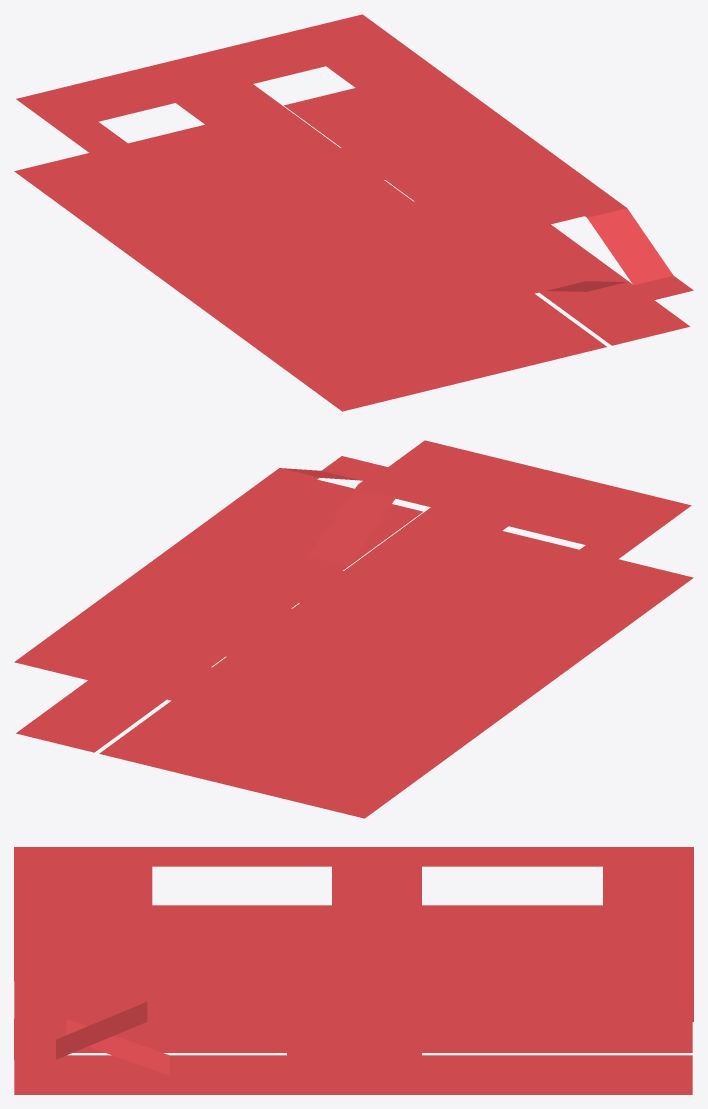
File: floor.fbx
3 renders of one model, top to bottom at view 1: azimuth 30°, elevation 25°; view 2: azimuth 150°, elevation 25°; view 3: azimuth 270°, elevation 25°, orthographic. The views are drawn at different scales.
Parts seen in each view (by area): view 1: floor; view 2: floor; view 3: floor.
Boxes of the visible parts, left/top/right/bottom form: floor: left=14, top=14, right=693, bottom=411; floor: left=14, top=440, right=693, bottom=818; floor: left=14, top=847, right=693, bottom=1094.
Size of the model in its own units: 13886 by 2691 by 22534.
